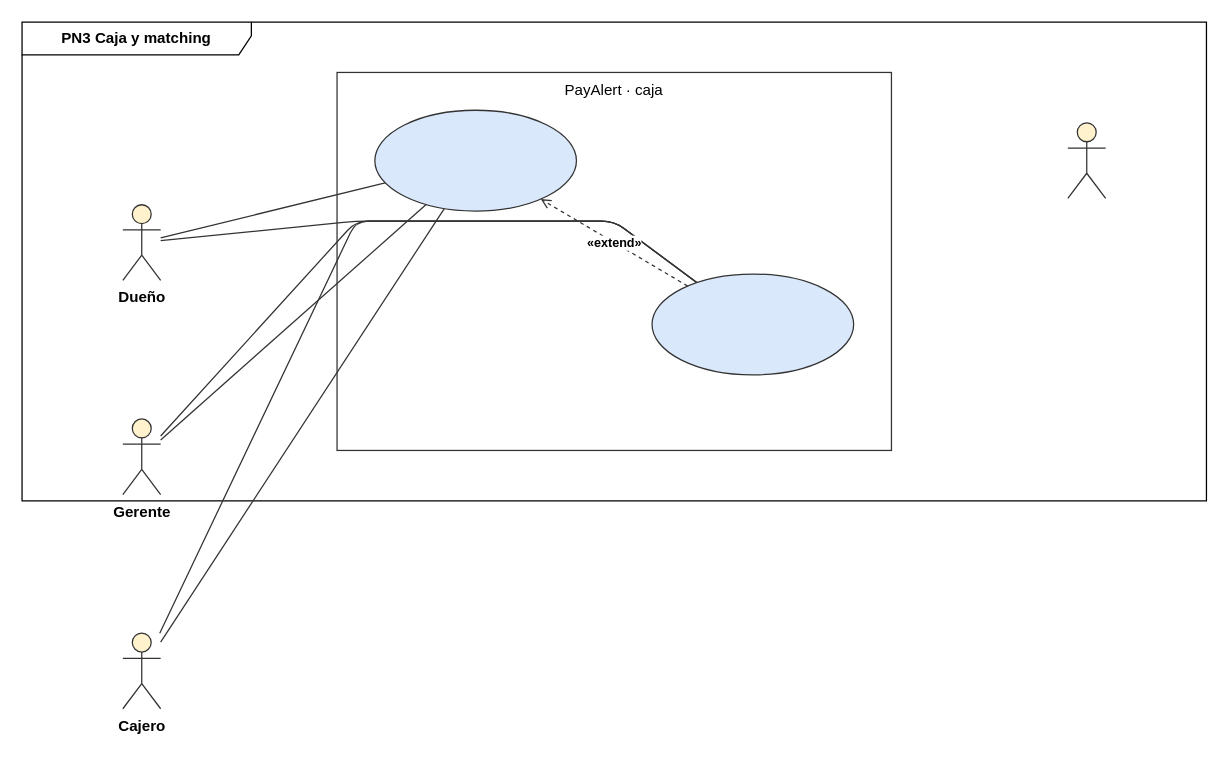
Some shapes in this 1229 by 757 pixel diagram are drawn without their labels. Each missing label, with the box of its shape:
CU-04 Gestionar cobro esperado: (374, 109, 576, 211)
CU-05 Resolver candidato: (651, 273, 854, 375)
Proveedor: (1067, 122, 1106, 198)
